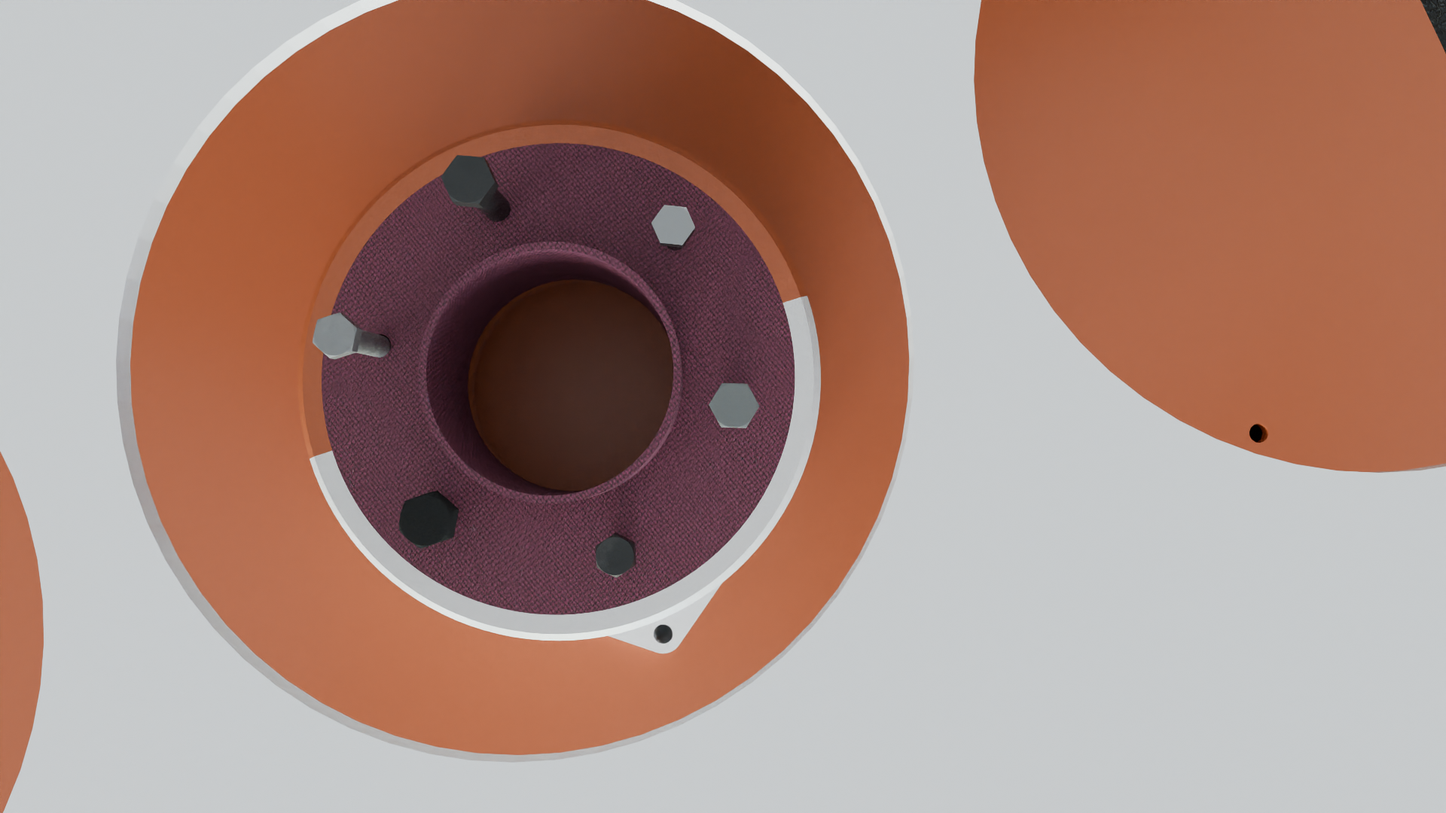bolt: (399, 492, 454, 549), (441, 155, 495, 204), (709, 383, 760, 428), (313, 312, 357, 358), (651, 205, 695, 245), (596, 534, 635, 577)
